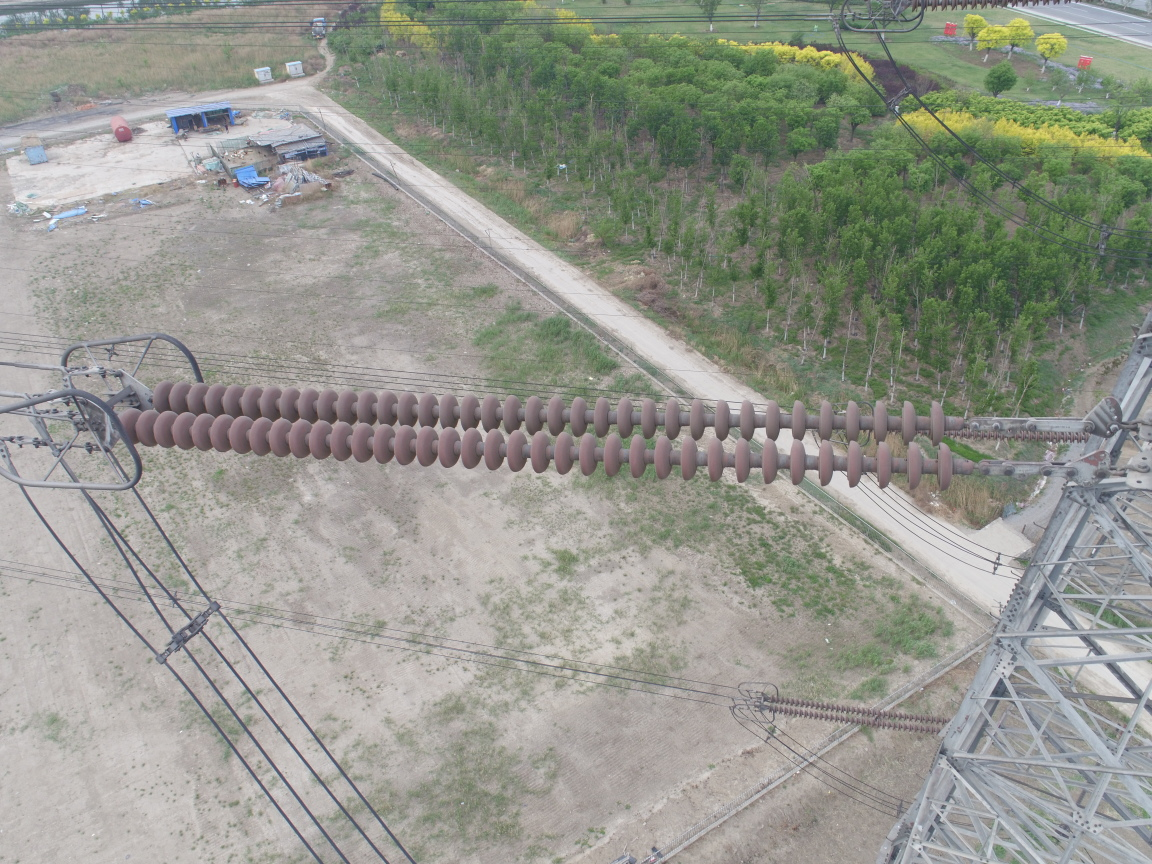insulator: (101, 371, 1046, 493), (761, 688, 943, 732)
